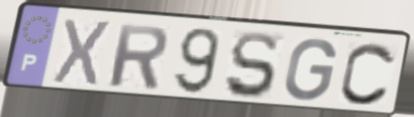9: (170, 26, 223, 96)
C: (337, 40, 399, 108)
G: (281, 36, 339, 103)
R: (107, 21, 171, 91)
S: (223, 30, 280, 102)
X: (49, 16, 115, 90)
